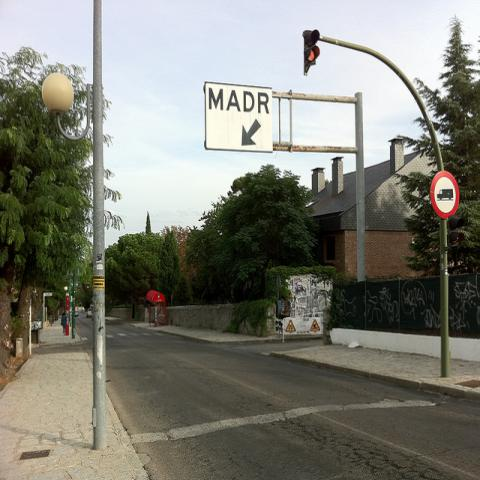car: (87, 310, 92, 317), (75, 310, 79, 316)
